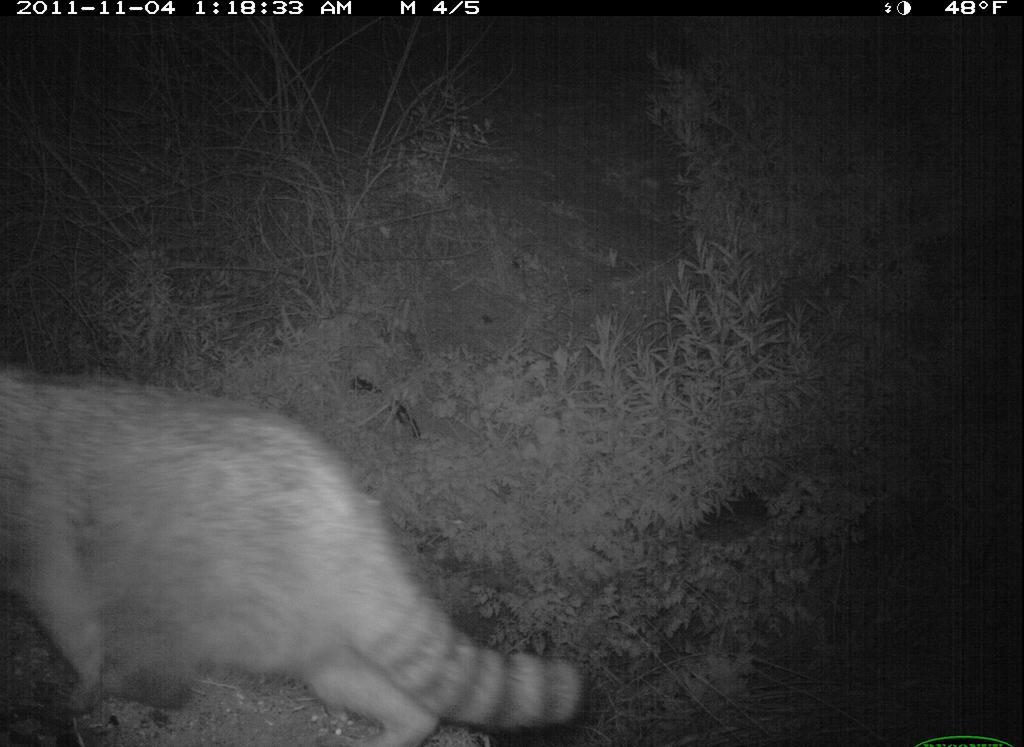raccoon: (1, 341, 597, 742)
